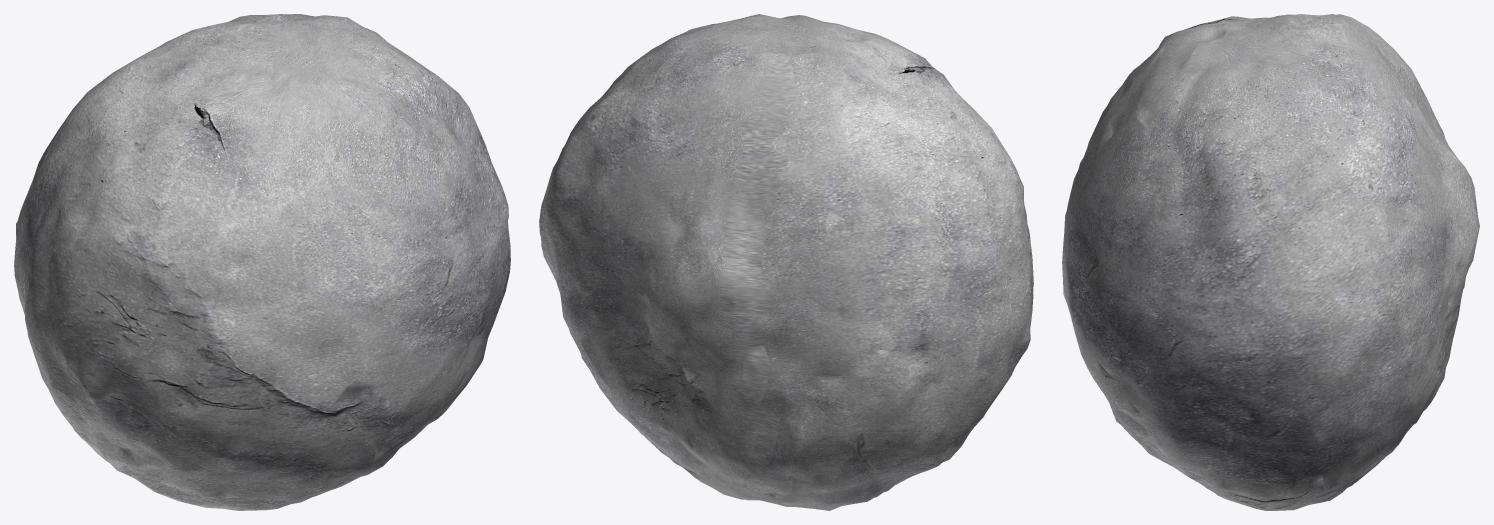
The model's file is vesta.gltf.
3 views of the same model, side by side, from view 1: azimuth 30°, elevation 25°; view 2: azimuth 150°, elevation 25°; view 3: azimuth 270°, elevation 25° (orthographic).
Parts seen in each view (by area): view 1: vesta; view 2: vesta; view 3: vesta.
Part boxes in pixels (left/top/right/bottom): vesta: left=14, top=14, right=510, bottom=510; vesta: left=539, top=14, right=1033, bottom=510; vesta: left=1062, top=14, right=1479, bottom=510.
Bounding box in the file's own units: 565 × 546 × 460.
Materials: 1 (1 with a texture image).
